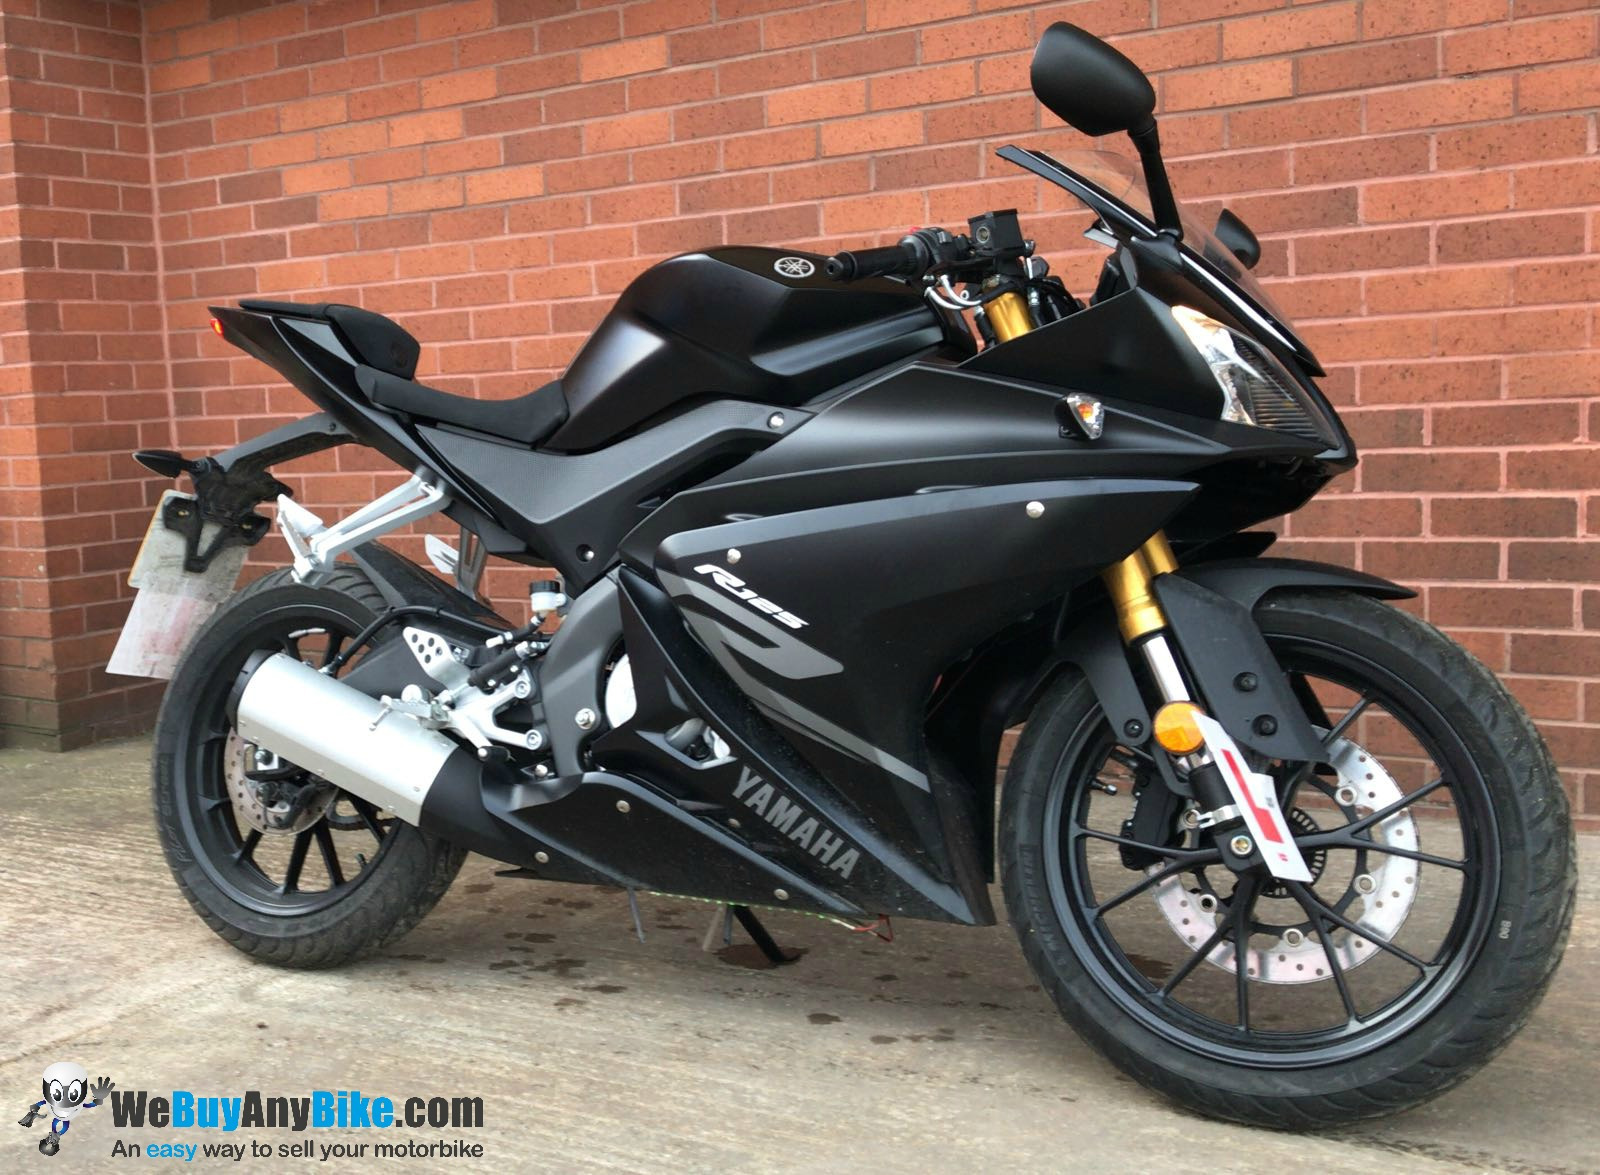bike: (104, 17, 1585, 1133)
